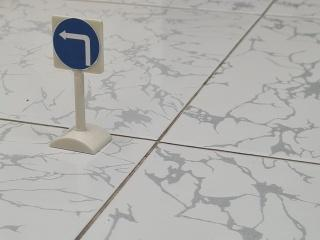left: (49, 15, 104, 75)
